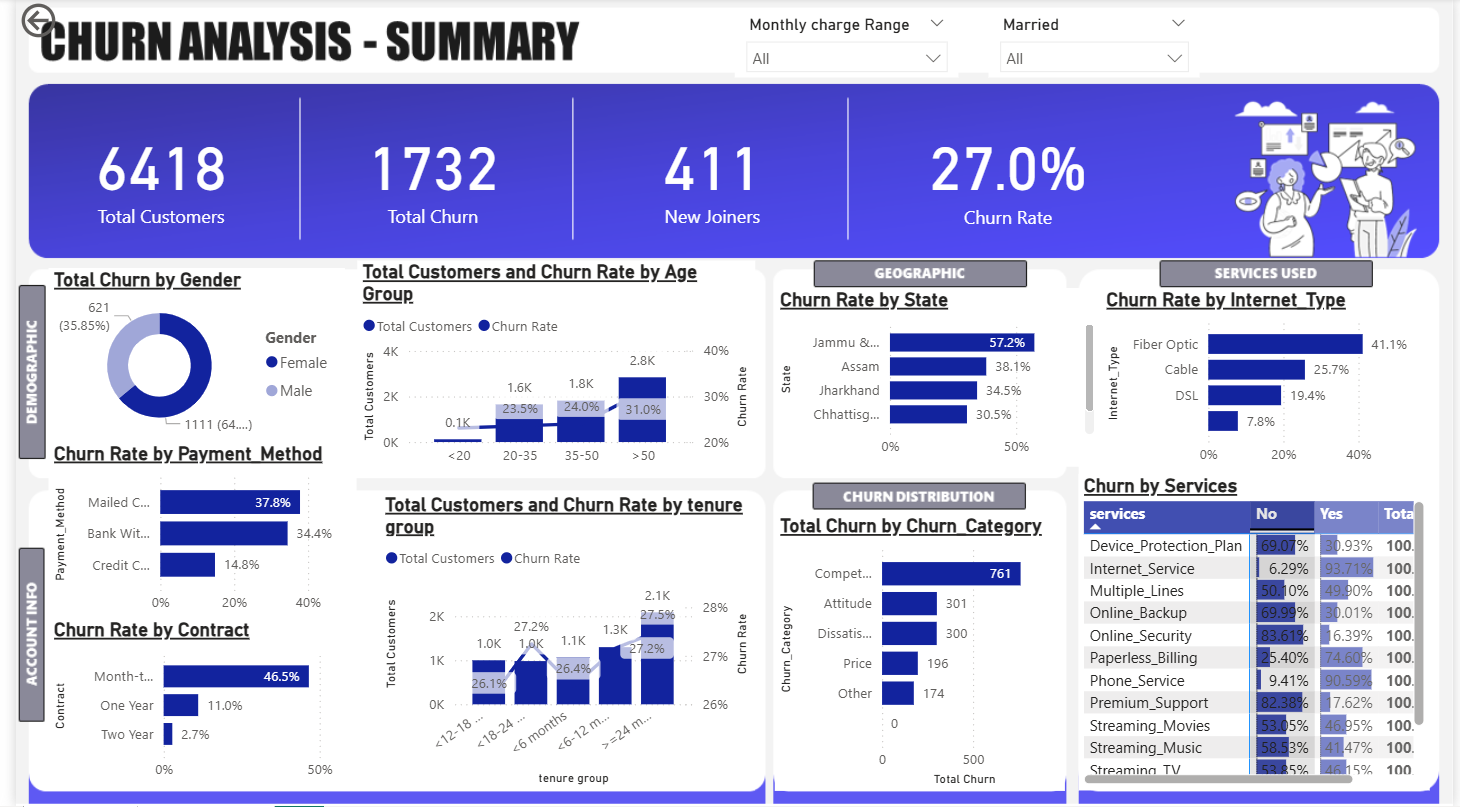

The page's visual inventory and layout, read from the dashboard file:
{"tool":"powerbi","page":{"name":"summary","canvas":[1280,720],"ordinal":0},"visuals":[{"type":"card","fields":{"Values":["Tbl_measure.Total Customers"]},"box":[17.4,104.7,223.3,102.3],"z":0},{"type":"actionButton","box":[0,0,100,40],"z":1000},{"type":"card","fields":{"Values":["Tbl_measure.Total Churn"]},"box":[261.6,104.7,219.8,102.3],"z":2000},{"type":"card","fields":{"Values":["Tbl_measure.New Joiners"]},"box":[509.3,104.7,220.9,102.3],"z":3000},{"type":"card","fields":{"Values":["Tbl_measure.Churn Rate"]},"box":[769.8,105.8,226.7,101.2],"z":4000},{"type":"donutChart","fields":{"Category":["db_churn prod__churn.Gender"],"Y":["Tbl_measure.Total Churn"]},"box":[29.1,240.7,264,154.7],"z":5000},{"type":"lineStackedColumnComboChart","fields":{"Category":["mapping_age group.Age Group"],"Y":["Tbl_measure.Total Customers"],"Y2":["Tbl_measure.Churn Rate"]},"box":[303.5,233.7,354.7,191.9],"z":6000},{"type":"clusteredBarChart","fields":{"Category":["db_churn prod__churn.Payment_Method"],"Y":["Tbl_measure.Churn Rate"]},"box":[29.1,395.3,274.4,161.6],"z":7000},{"type":"clusteredBarChart","fields":{"Category":["db_churn prod__churn.Contract"],"Y":["Tbl_measure.Churn Rate"]},"box":[29.1,552.3,288.4,153.5],"z":8000},{"type":"lineStackedColumnComboChart","fields":{"Category":["mapping_tenure_group.tenure group"],"Y":["Tbl_measure.Total Customers"],"Y2":["Tbl_measure.Churn Rate"]},"box":[324.4,440.7,333.7,265.1],"z":9000},{"type":"clusteredBarChart","fields":{"Category":["db_churn prod__churn.State"],"Y":["Tbl_measure.Churn Rate"]},"box":[675.6,258.1,289.5,159.3],"z":10000},{"type":"clusteredBarChart","fields":{"Category":["db_churn prod__churn.Churn_Category"],"Y":["Tbl_measure.Total Churn"]},"box":[675.6,459.3,258.1,246.5],"z":11000},{"type":"clusteredBarChart","fields":{"Category":["db_churn prod__churn.Internet_Type"],"Y":["Tbl_measure.Churn Rate"]},"box":[966.3,258.1,294.2,166.3],"z":12000},{"type":"pivotTable","title":"Churn by Services","fields":{"Rows":["prod_services.services"],"Values":["Sum(prod_services.churn status)"],"Columns":["prod_services.status"]},"box":[946.5,424.4,312.8,281.4],"z":13000},{"type":"slicer","fields":{"Values":["db_churn prod__churn.Monthly charge status"]},"box":[639.5,9.8,199.3,61.1],"z":14000},{"type":"slicer","fields":{"Values":["db_churn prod__churn.Married"]},"box":[865.8,9.8,188.3,61.1],"z":15000}]}

Visuals, with their boxes in screenshot pixels (x1, y1, x2, y2), scaled from the page's 1280x720 canvas onto the 1460x807 screenshot:
card - Tbl_measure.Total Customers: rect(20, 117, 275, 232)
actionButton: rect(0, 0, 114, 45)
card - Tbl_measure.Total Churn: rect(298, 117, 549, 232)
card - Tbl_measure.New Joiners: rect(581, 117, 833, 232)
card - Tbl_measure.Churn Rate: rect(878, 119, 1137, 232)
donutChart - db_churn prod__churn.Gender x Tbl_measure.Total Churn: rect(33, 270, 334, 443)
lineStackedColumnComboChart - mapping_age group.Age Group x Tbl_measure.Total Customers: rect(346, 262, 751, 477)
clusteredBarChart - db_churn prod__churn.Payment_Method x Tbl_measure.Churn Rate: rect(33, 443, 346, 624)
clusteredBarChart - db_churn prod__churn.Contract x Tbl_measure.Churn Rate: rect(33, 619, 362, 791)
lineStackedColumnComboChart - mapping_tenure_group.tenure group x Tbl_measure.Total Customers: rect(370, 494, 751, 791)
clusteredBarChart - db_churn prod__churn.State x Tbl_measure.Churn Rate: rect(771, 289, 1101, 468)
clusteredBarChart - db_churn prod__churn.Churn_Category x Tbl_measure.Total Churn: rect(771, 515, 1065, 791)
clusteredBarChart - db_churn prod__churn.Internet_Type x Tbl_measure.Churn Rate: rect(1102, 289, 1438, 476)
"Churn by Services" pivotTable: rect(1080, 476, 1436, 791)
slicer - db_churn prod__churn.Monthly charge status: rect(729, 11, 957, 79)
slicer - db_churn prod__churn.Married: rect(988, 11, 1202, 79)
